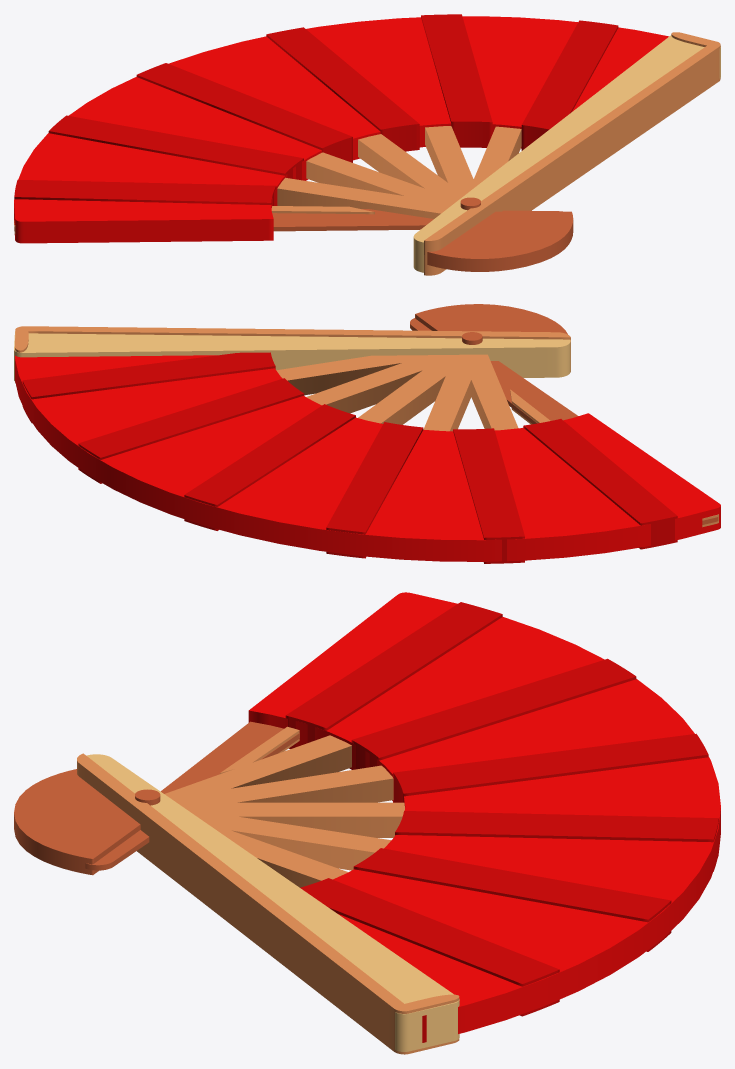
Rendered from emoji_u1faad.glb.
3 views of the same model, one above another, from view 1: azimuth 30°, elevation 25°; view 2: azimuth 150°, elevation 25°; view 3: azimuth 270°, elevation 25° (orthographic). The views are drawn at different scales.
Visible parts, largest first — view 1: emoji_u1faad; view 2: emoji_u1faad; view 3: emoji_u1faad.
Boxes of the visible parts, bbox=[...] form: emoji_u1faad: bbox=[14, 14, 720, 275]; emoji_u1faad: bbox=[14, 304, 720, 563]; emoji_u1faad: bbox=[14, 592, 720, 1054].
Bounding box in the file's own units: 0.0339 × 0.0018 × 0.0237.
